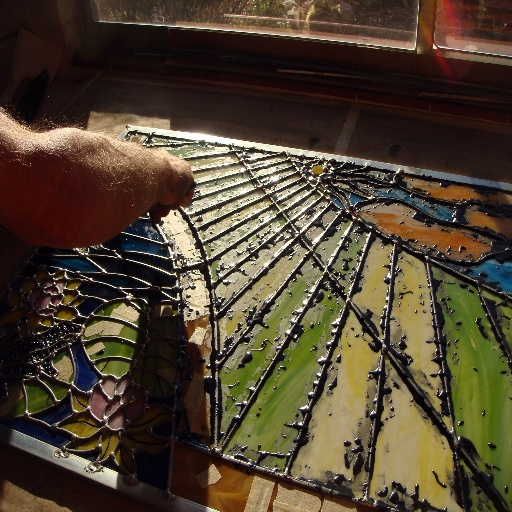hand: (0, 92, 219, 263), (146, 150, 194, 227)
